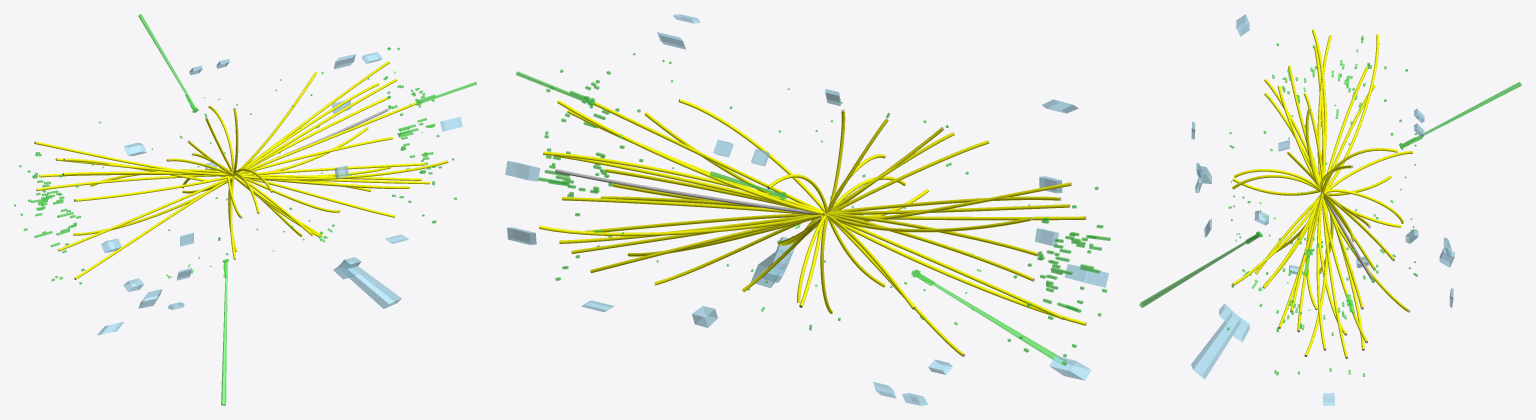
Rendered from Hgammagamma-trackANDhits.gltf.
3 views of the same model, side by side, from view 1: azimuth 30°, elevation 25°; view 2: azimuth 150°, elevation 25°; view 3: azimuth 270°, elevation 25° (orthographic). The views are drawn at different scales.
Parts seen in each view (by area): view 1: root; view 2: root; view 3: root.
Part boxes in pixels (x1,y1,x2,y2): root: (14,14,476,405); root: (505,14,1110,405); root: (1139,14,1521,405).
Size of the model in its own units: 7.72 by 4.35 by 5.4.
